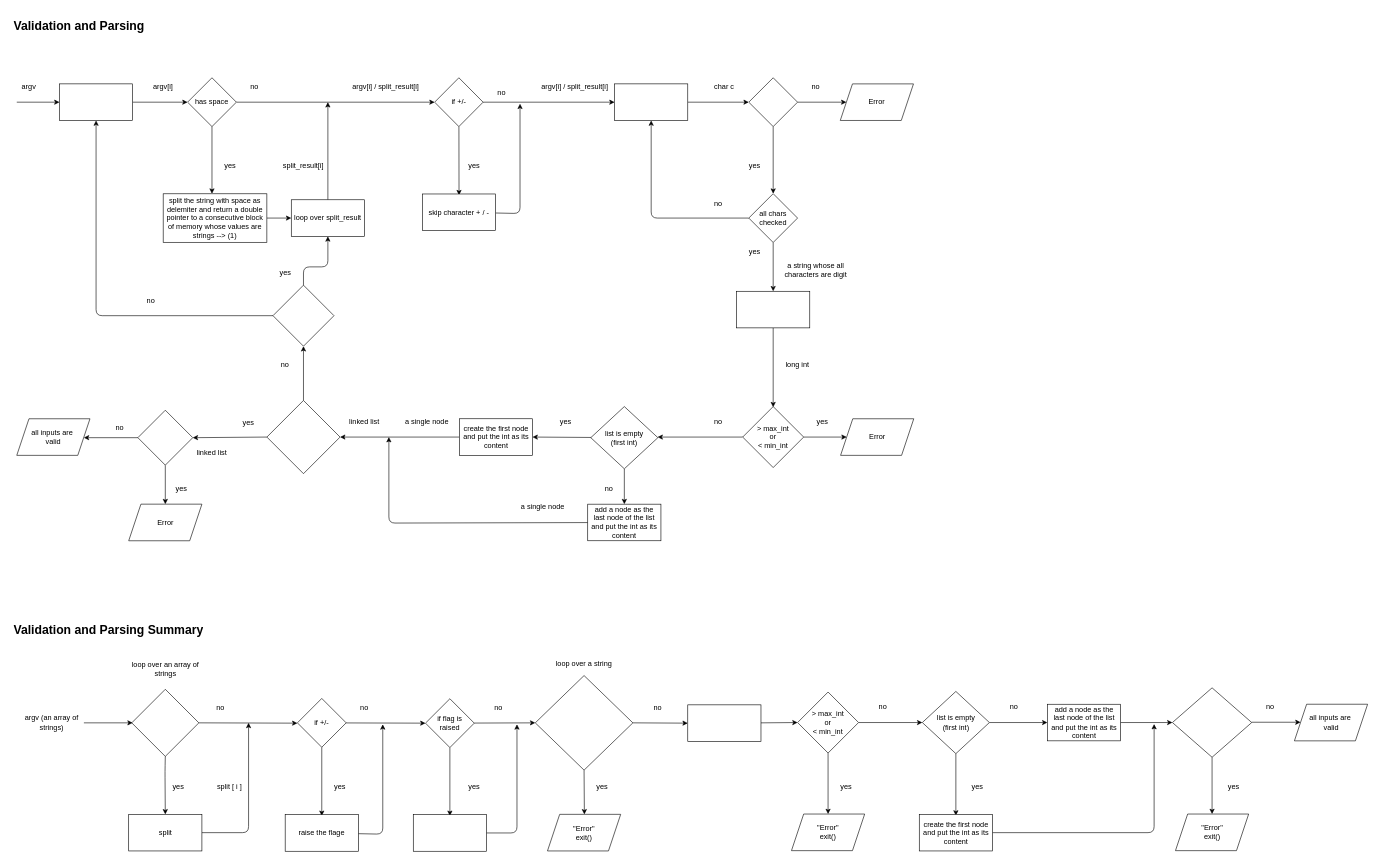
This 1378x862 diagram has some shape labels left out. Here are the shapes that lost their labels. From the top down, the box of each, then its label:
(59, 83, 133, 120): validate_args() loop over argv and skip argv[0]
(614, 83, 688, 120): loop over argv [i] / split [i]
(748, 77, 798, 127): is char c digit
(272, 285, 334, 346): was it split_result[i]
(736, 291, 810, 328): convert to a long int
(137, 410, 193, 465): is there duplication
(266, 400, 340, 474): last argv[i] / last split_result[i]
(131, 689, 199, 756): loop, if argv [ i ] includes space
(535, 675, 633, 770): loop over argv [ i ] or split [ i ] to see if is_digit() is 0 for a character
(687, 704, 761, 741): convert string to a long integer
(1172, 687, 1252, 757): loop over the list to see if there is duplication
(413, 814, 486, 851): skip + / -
